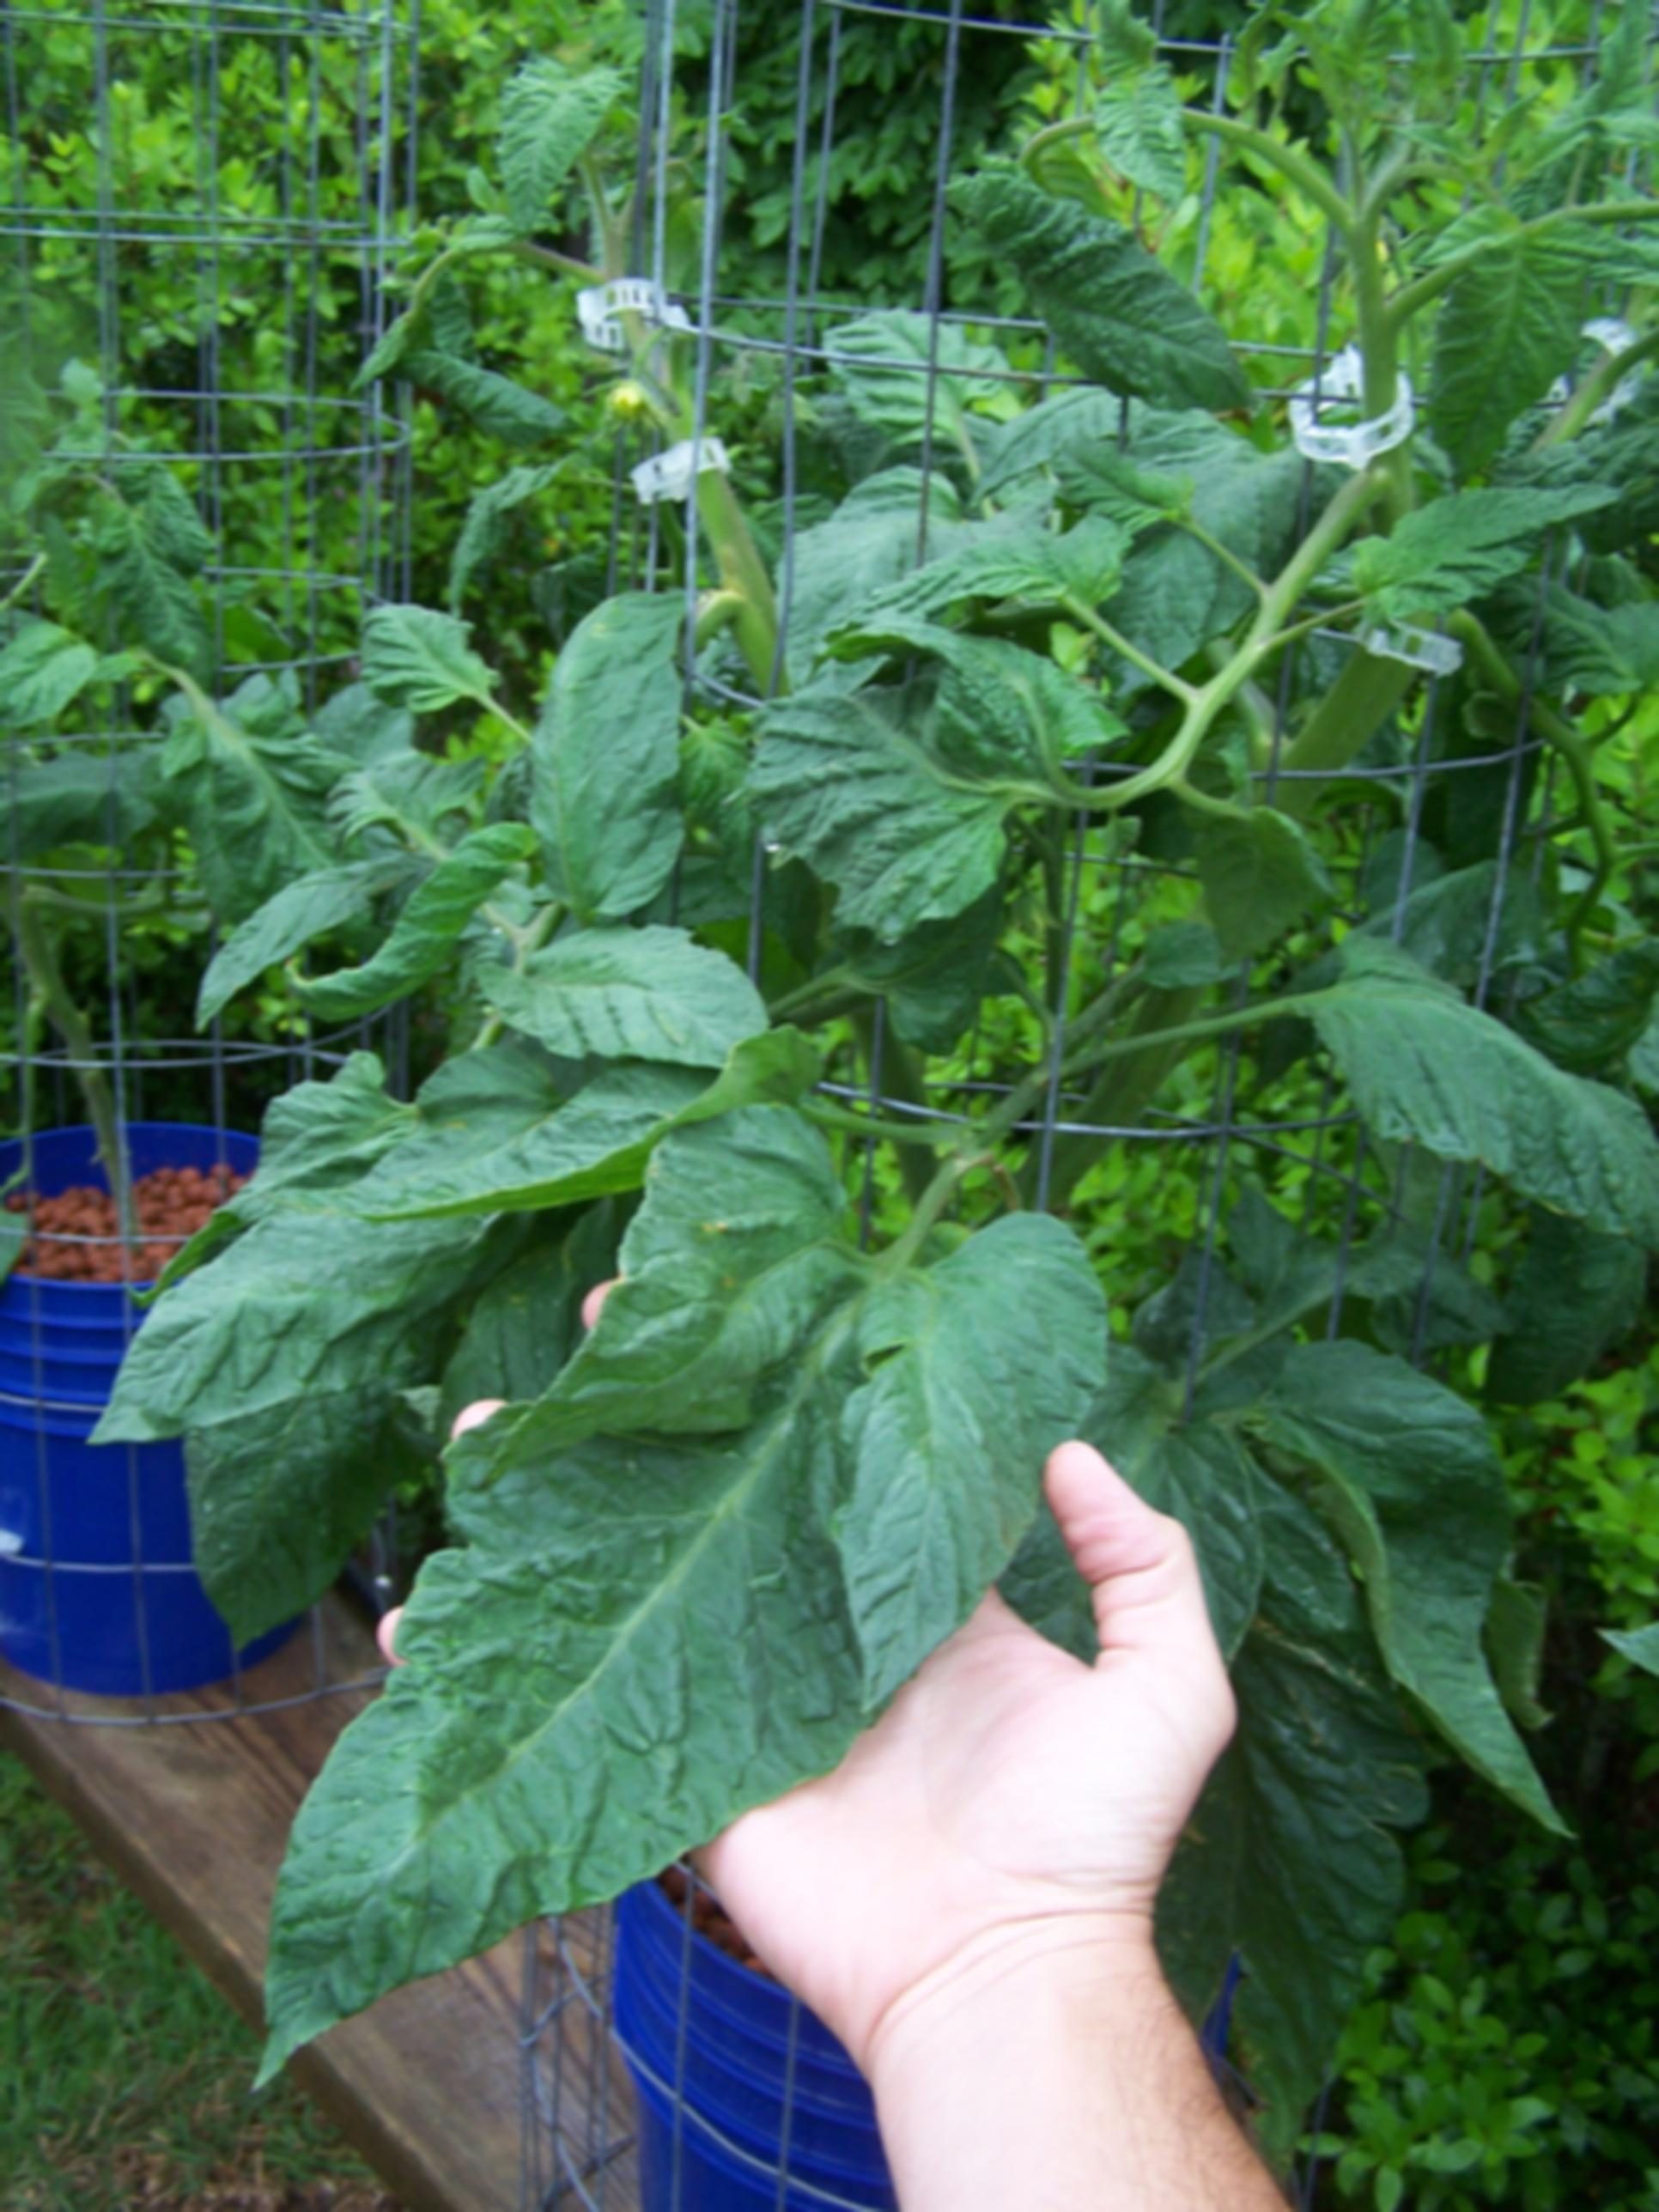Tomato leaf: (239, 1205, 1065, 2071), (91, 1083, 634, 1456), (1328, 967, 1645, 1216), (533, 597, 718, 958), (762, 709, 1028, 914), (1345, 448, 1612, 639), (479, 944, 803, 1092), (342, 594, 507, 712)
